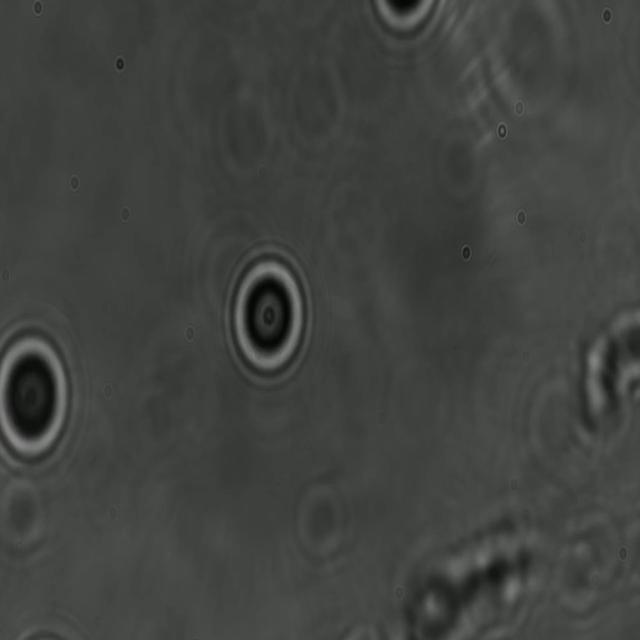LCELL: (218, 236, 316, 398)
